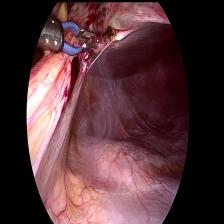Bipolar: (42, 11, 98, 57)
